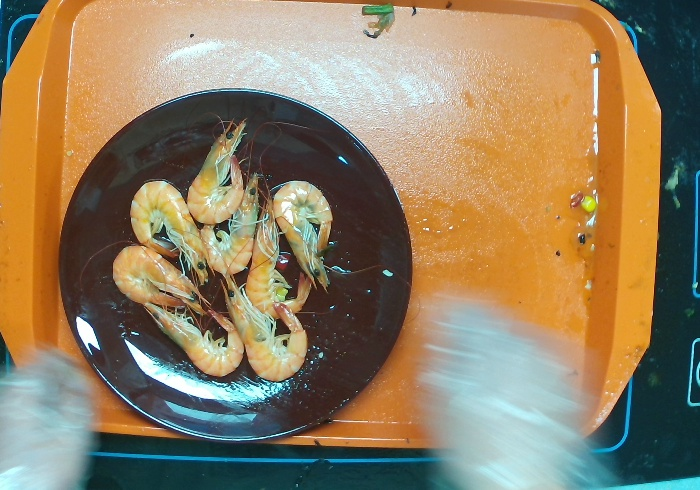HZYJPL-Ka_Fei_Yuan_Pan: (39, 80, 433, 470)
